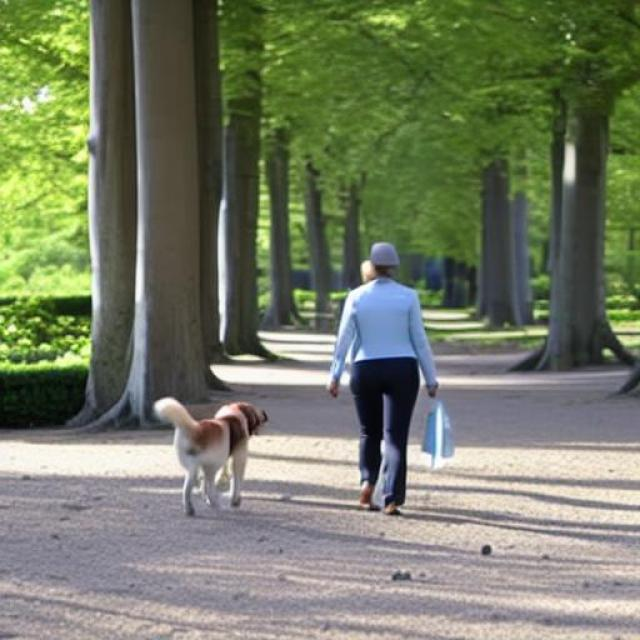Unleashed_Dog: (155, 360, 420, 515)
